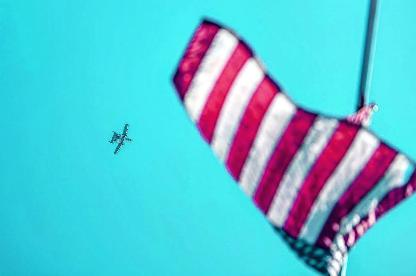A10: (109, 124, 133, 154)
